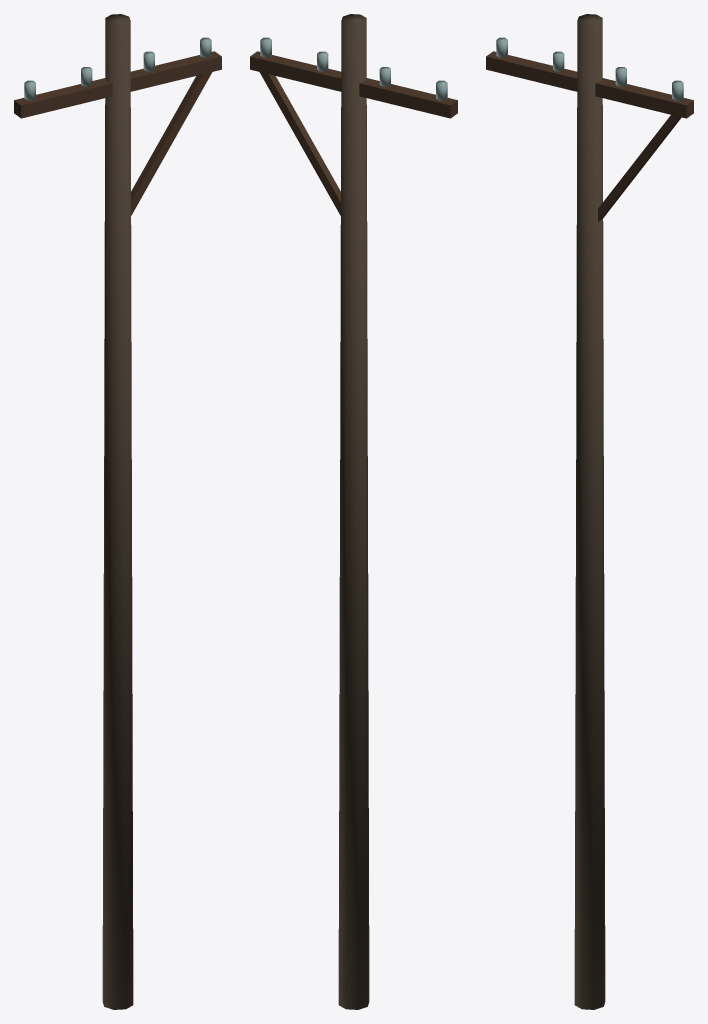
The model's file is power_pole.glb.
3 views of the same model, side by side, from view 1: azimuth 30°, elevation 25°; view 2: azimuth 150°, elevation 25°; view 3: azimuth 330°, elevation 25° (orthographic).
Parts seen in each view (by area): view 1: PowerPole; view 2: PowerPole; view 3: PowerPole.
Boxes of the visible parts, x1=… form: PowerPole: x1=14, y1=14, x2=221, y2=1009; PowerPole: x1=250, y1=14, x2=457, y2=1009; PowerPole: x1=486, y1=14, x2=693, y2=1009.
Size of the model in its own units: 1.6 by 7.5 by 0.22.
